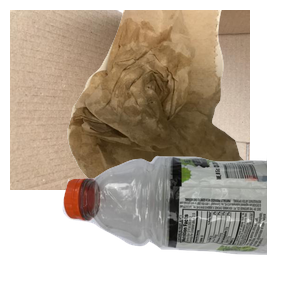cardboard: (10, 10, 250, 190)
glass: (90, 148, 300, 300)
plastic: (60, 152, 300, 300)
trash: (65, 10, 300, 190)
